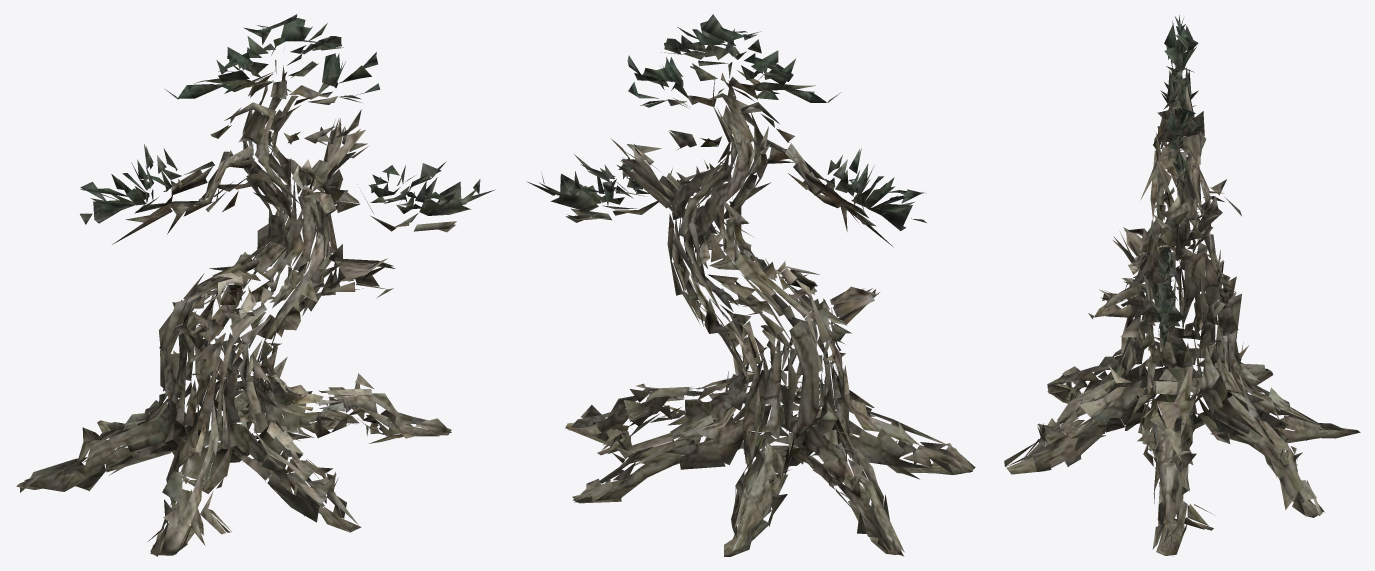
Rendered from tr_grave_pine_far.glb.
3 views of the same model, side by side, from view 1: azimuth 30°, elevation 25°; view 2: azimuth 150°, elevation 25°; view 3: azimuth 270°, elevation 25° (orthographic).
Visible parts, largest first — view 1: tr_grave_pine; view 2: tr_grave_pine; view 3: tr_grave_pine.
Part boxes in pixels (x1,y1,x2,y2): tr_grave_pine: [16, 14, 495, 556]; tr_grave_pine: [526, 14, 975, 556]; tr_grave_pine: [1004, 15, 1360, 556].
Size of the model in its own units: 10.75 by 10.89 by 7.73.
Materials: 1 (1 with a texture image).
